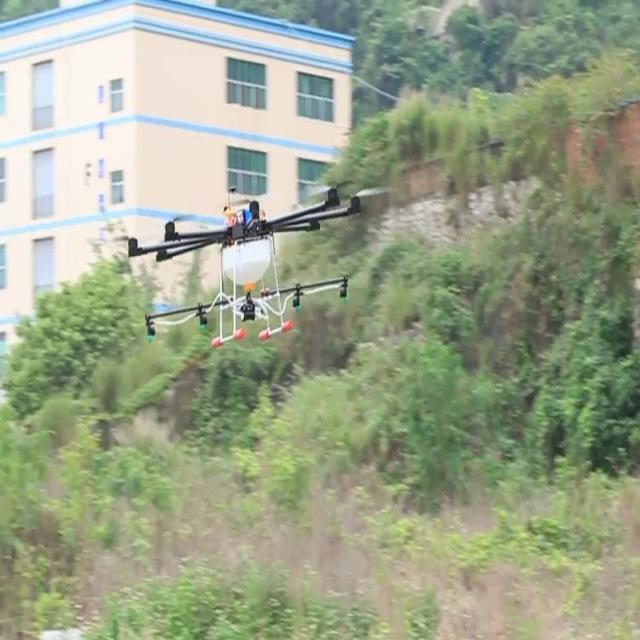drone: (120, 176, 397, 352)
